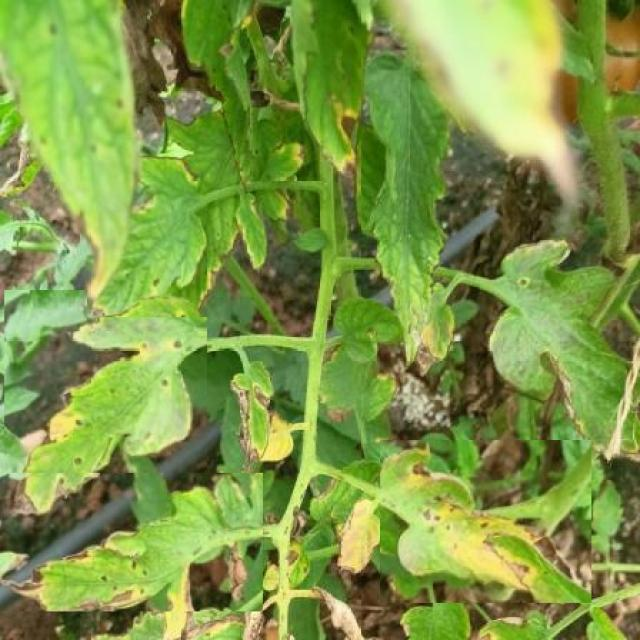Early Blight: (5, 290, 208, 520), (0, 473, 264, 611), (379, 440, 592, 603), (87, 155, 207, 318)
